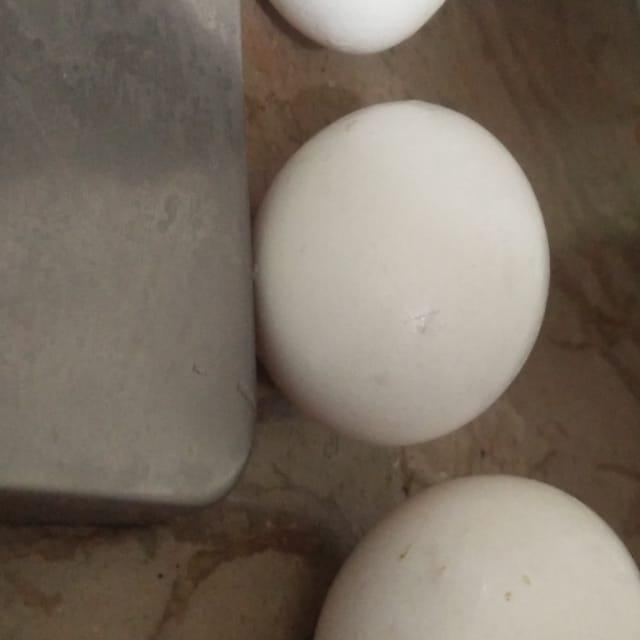egg: (258, 83, 566, 455), (304, 471, 640, 640)
